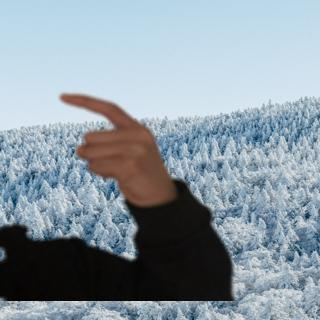WHY: (53, 87, 171, 204)
